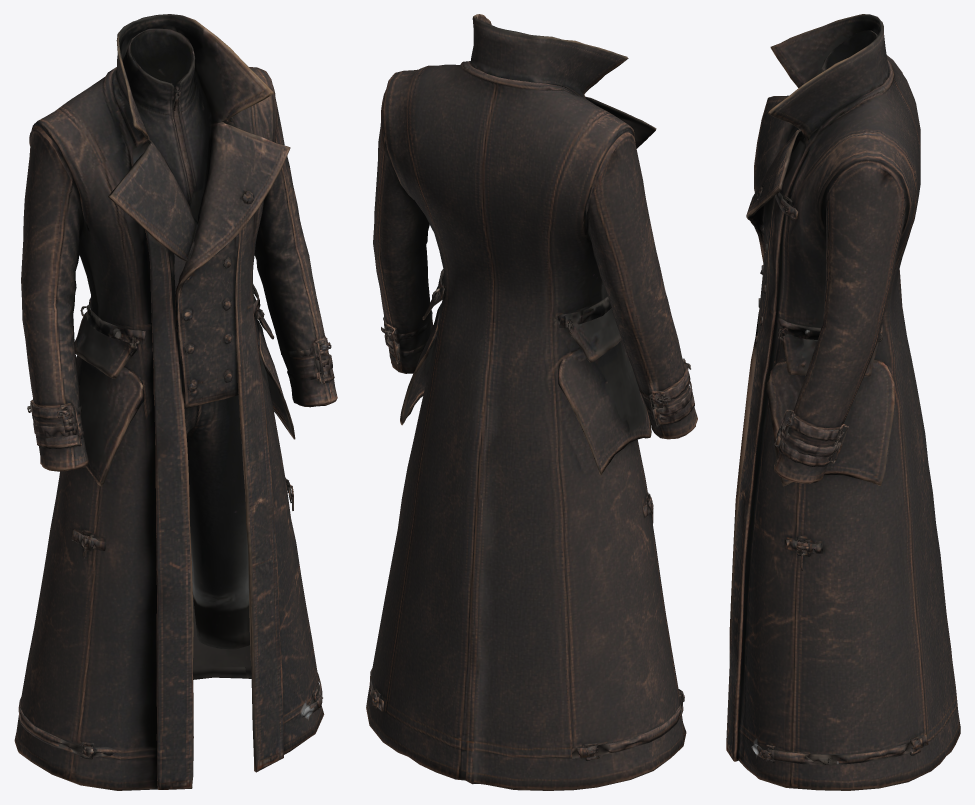
File: prenda.glb
The picture shows the model from 3 angles, left to right: view 1: azimuth 30°, elevation 25°; view 2: azimuth 150°, elevation 25°; view 3: azimuth 270°, elevation 25°; orthographic projection. The views are drawn at different scales.
Parts seen in each view (by area): view 1: Model; view 2: Model; view 3: Model.
Part boxes in pixels (x1,y1,x2,y2): Model: (14, 14, 337, 790); Model: (366, 14, 697, 790); Model: (726, 14, 960, 790).
Size of the model in its own units: 0.4286 by 1 by 0.2994.
1 material, 1 textured.
